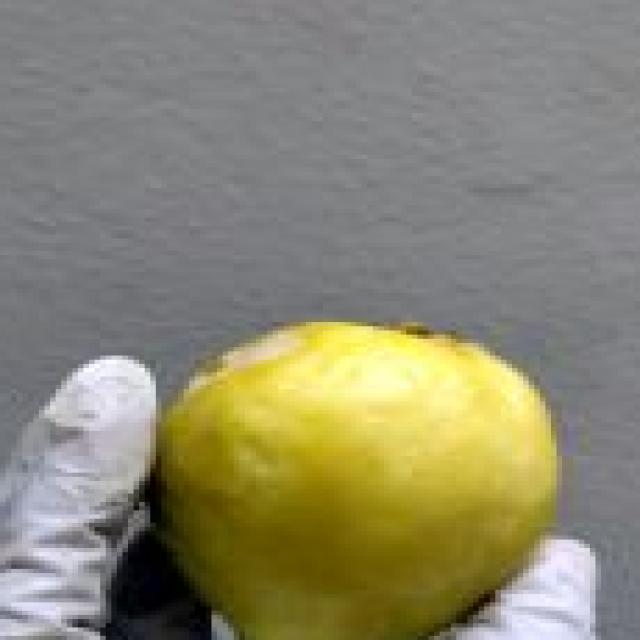Good_Guava 5-7 days: (150, 322, 568, 640)
